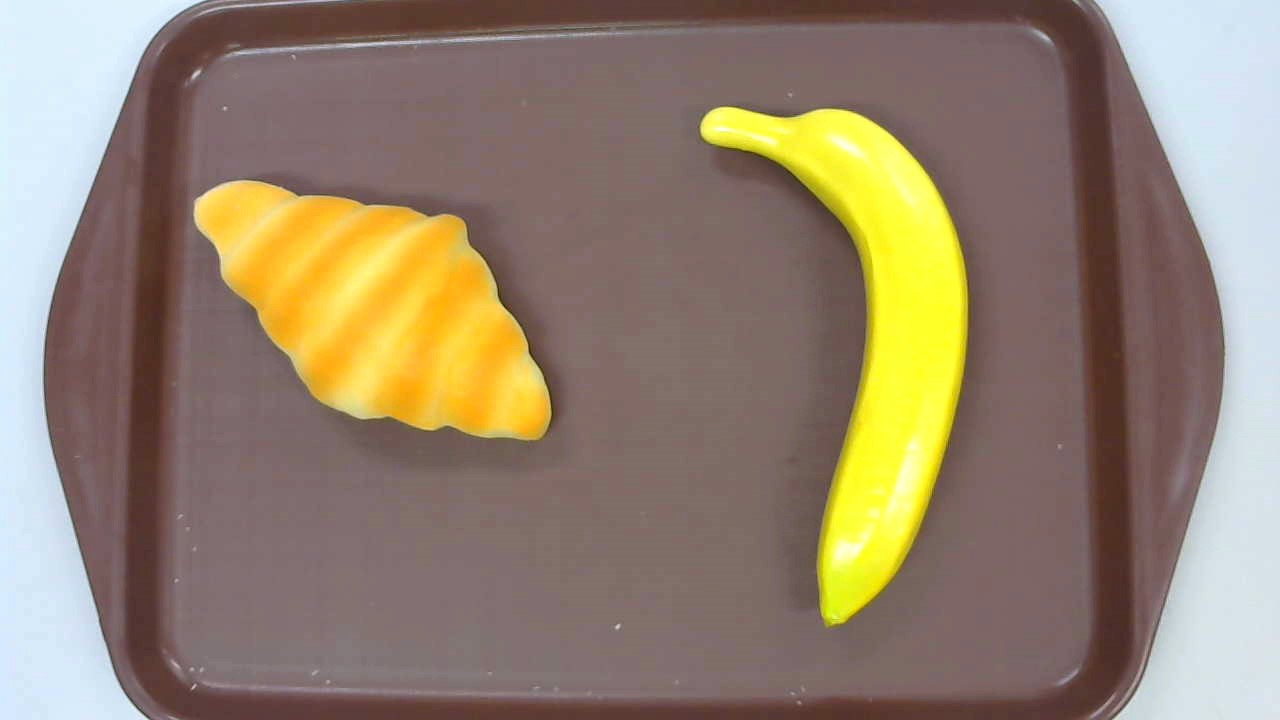banana: (700, 105, 967, 634)
croissant: (193, 179, 553, 442)
